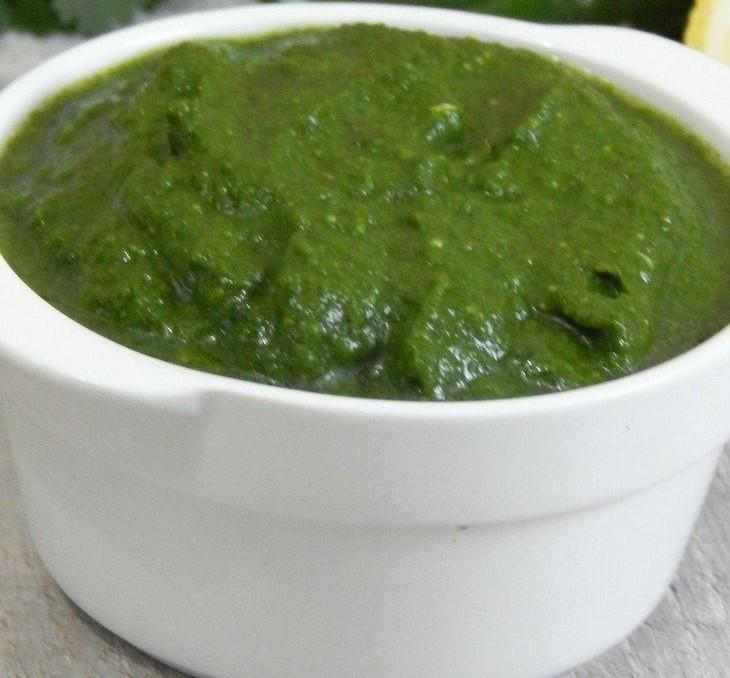GreenChutney: (2, 20, 730, 401)
